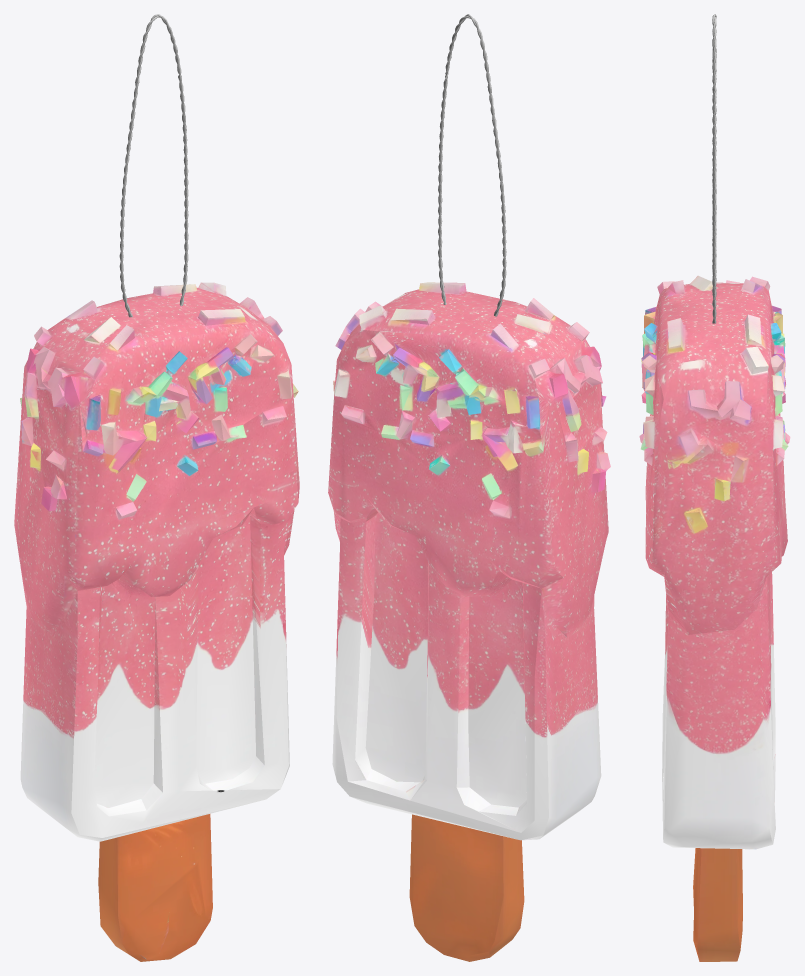
File: popsicle.glb
3 renders of one model, left to right at view 1: azimuth 30°, elevation 25°; view 2: azimuth 150°, elevation 25°; view 3: azimuth 270°, elevation 25°, orthographic.
Visible parts, largest first — view 1: Mesh1.0, GN Instance; view 2: Mesh1.0, GN Instance; view 3: Mesh1.0, GN Instance.
Boxes of the visible parts, bbox=[...] form: Mesh1.0: bbox=[14, 282, 299, 961]; GN Instance: bbox=[119, 14, 188, 317]; Mesh1.0: bbox=[328, 282, 610, 961]; GN Instance: bbox=[438, 14, 506, 316]; Mesh1.0: bbox=[639, 275, 790, 961]; GN Instance: bbox=[712, 14, 716, 323].
Bounding box in the file's own units: 0.0513 × 0.187 × 0.0272.
2 materials, 1 textured.
